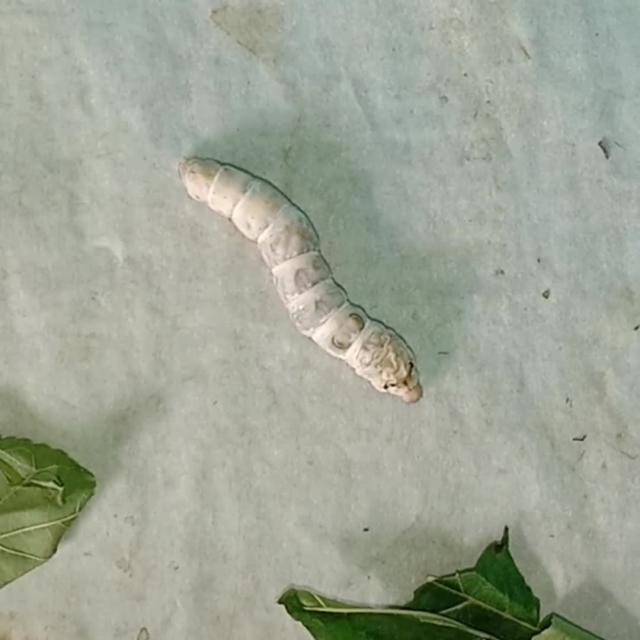Grasserie: (164, 136, 438, 418)
